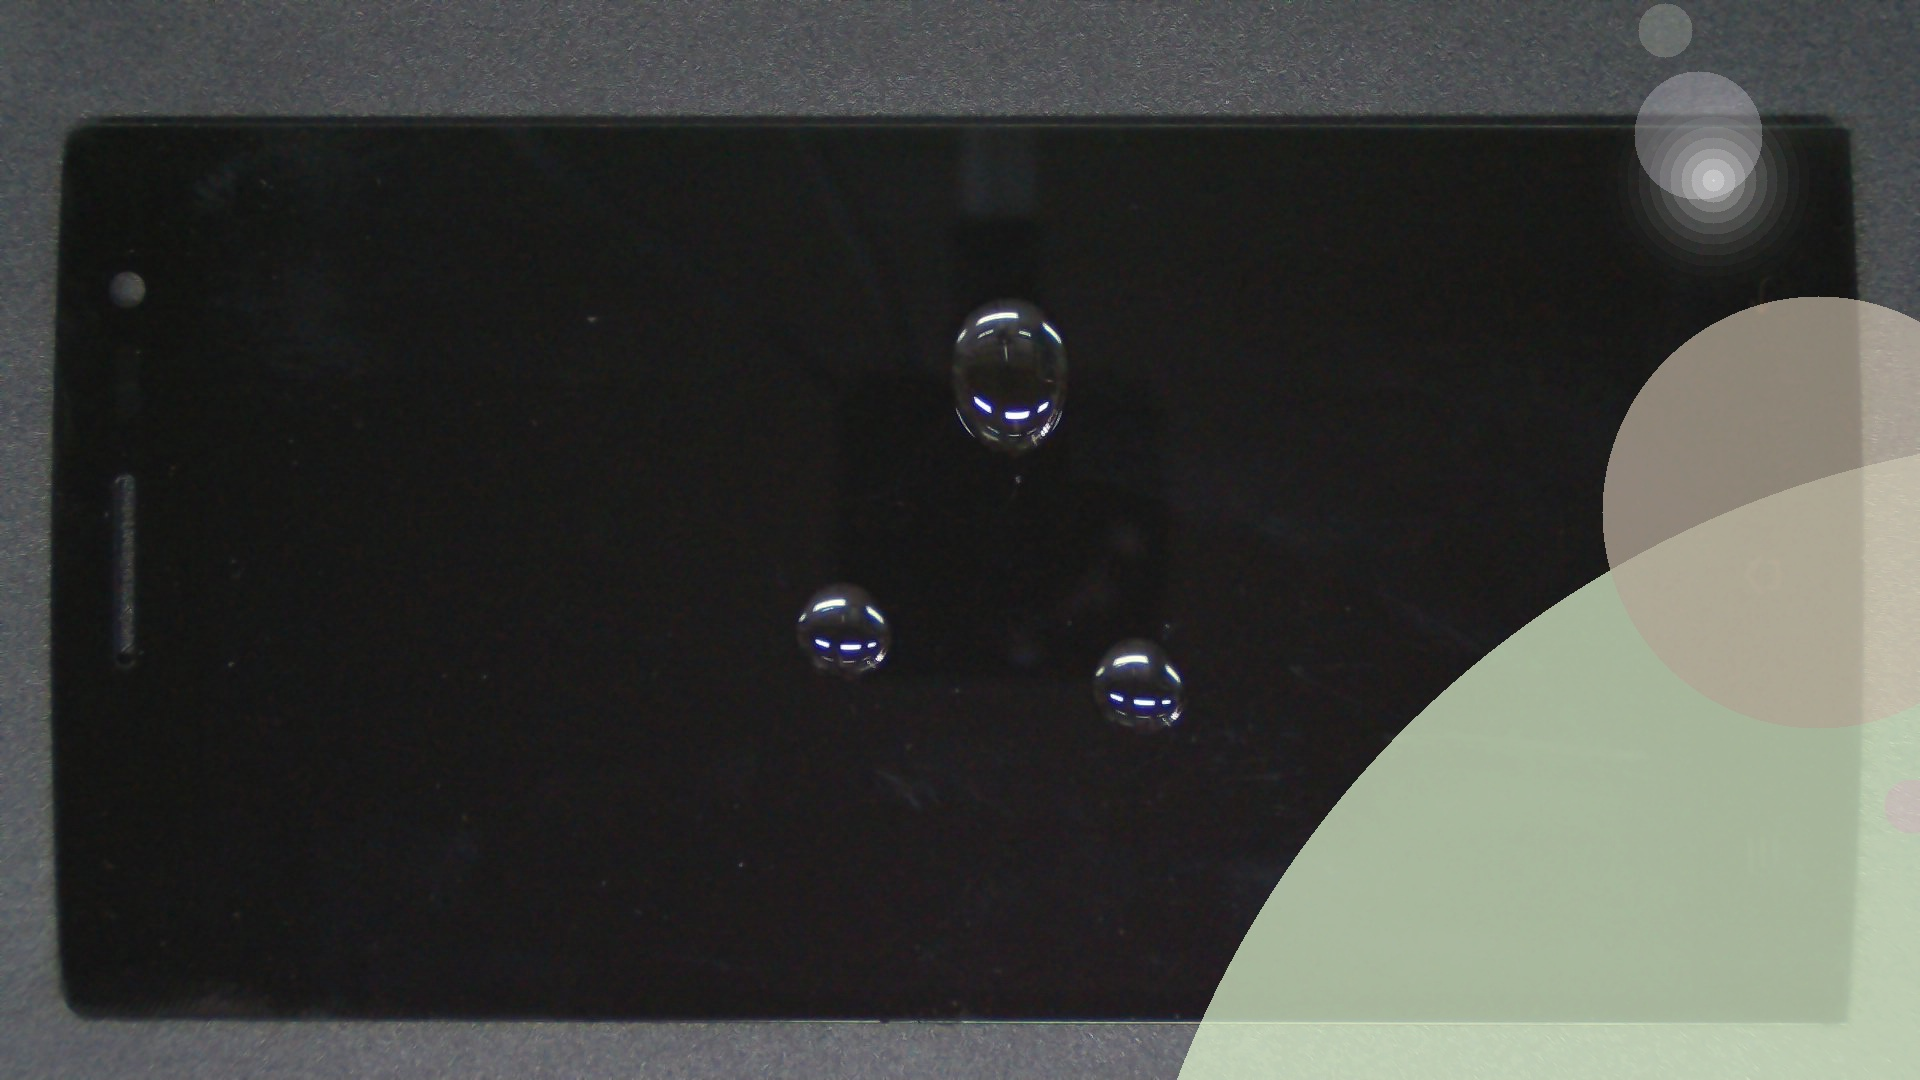oil: (563, 319, 1687, 959), (418, 291, 1250, 877), (501, 149, 1501, 448)
